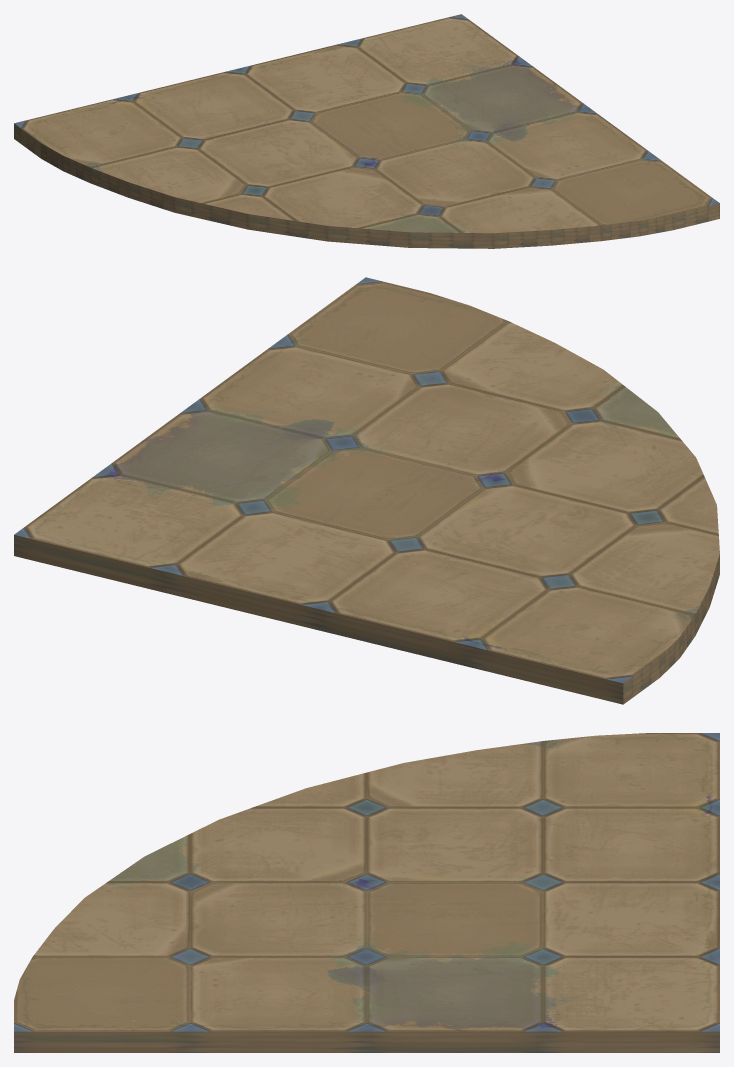
The model's file is ARC0510045.fbx.
3 views of the same model, one above another, from view 1: azimuth 30°, elevation 25°; view 2: azimuth 150°, elevation 25°; view 3: azimuth 270°, elevation 25° (orthographic). The views are drawn at different scales.
Visible parts, largest first — view 1: smARC0510045; view 2: smARC0510045; view 3: smARC0510045.
Part boxes in pixels (<box>): smARC0510045: <box>14,14,719,248</box>; smARC0510045: <box>14,277,719,704</box>; smARC0510045: <box>14,733,719,1052</box>.
Size of the model in its own units: 300 by 10 by 300.
1 material, 1 textured.
